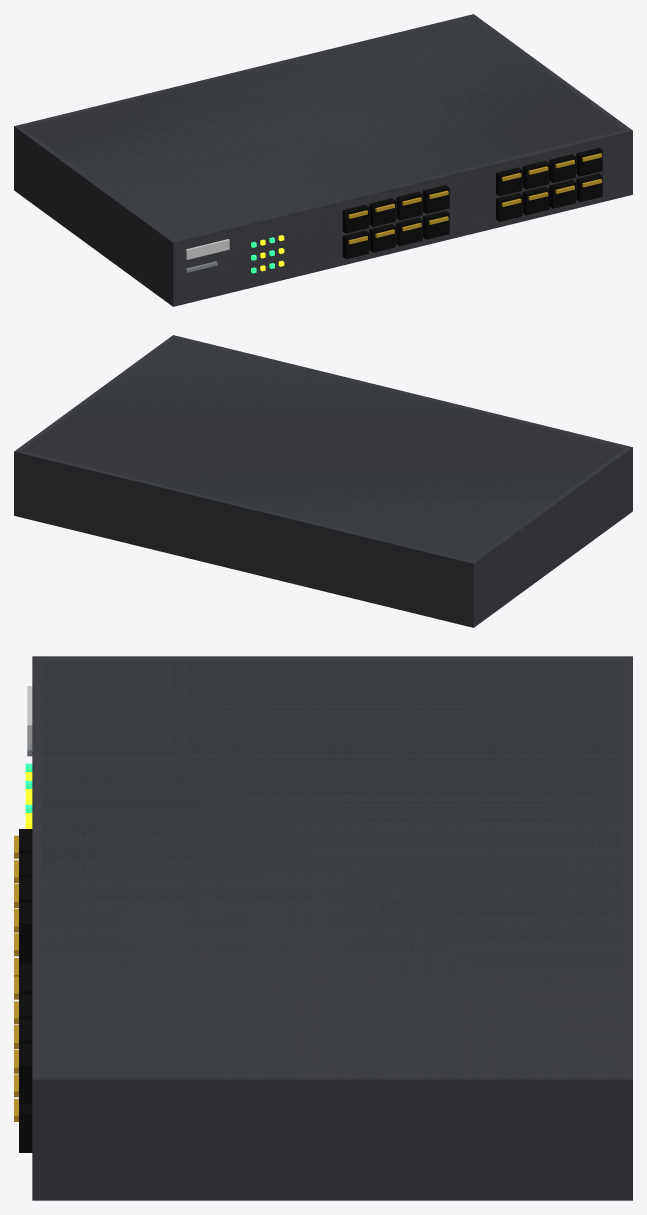
Rendered from 41-tplink-switch-16p.glb.
3 renders of one model, top to bottom at view 1: azimuth 30°, elevation 25°; view 2: azimuth 150°, elevation 25°; view 3: azimuth 270°, elevation 25°, orthographic. The views are drawn at different scales.
Bounding box in the file's own units: 0.3 × 0.04 × 0.1855.
